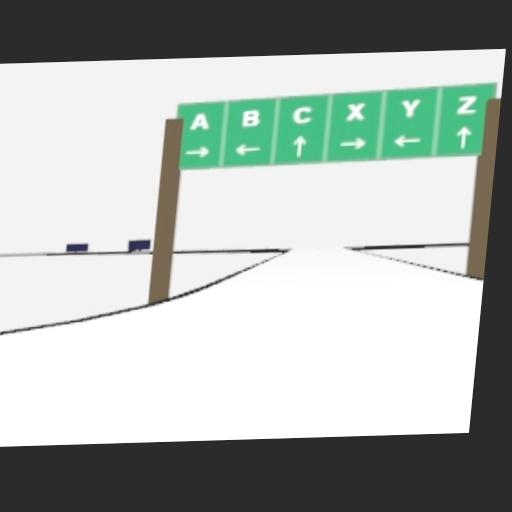A: (188, 112, 211, 129)
B: (239, 109, 261, 126)
C: (291, 104, 313, 125)
Left: (234, 142, 262, 157)
Right: (339, 137, 368, 150), (184, 144, 210, 157)
Straight: (453, 124, 472, 148), (292, 135, 306, 156)
X: (344, 101, 366, 121)
Y: (398, 97, 421, 118)
Z: (455, 94, 478, 114)
